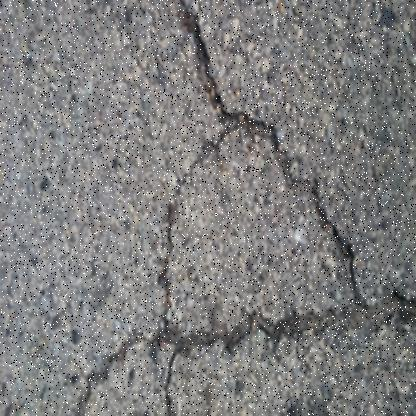Cracks: (147, 0, 362, 292), (79, 290, 415, 415)
